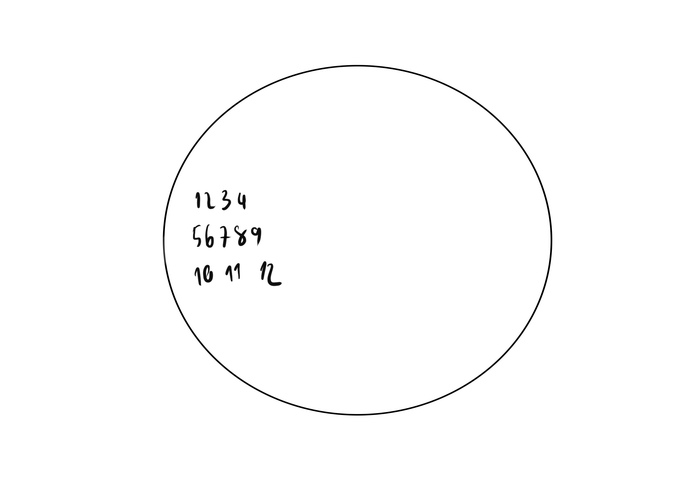eight: (233, 221, 247, 248)
eleven: (225, 259, 246, 286)
five: (190, 221, 204, 251)
four: (233, 187, 250, 212)
nine: (250, 226, 264, 247)
one: (192, 189, 203, 209)
seven: (217, 221, 232, 253)
six: (203, 222, 216, 253)
ten: (194, 261, 218, 289)
three: (218, 187, 232, 213)
twelve: (258, 260, 283, 292)
two: (205, 191, 216, 211)
